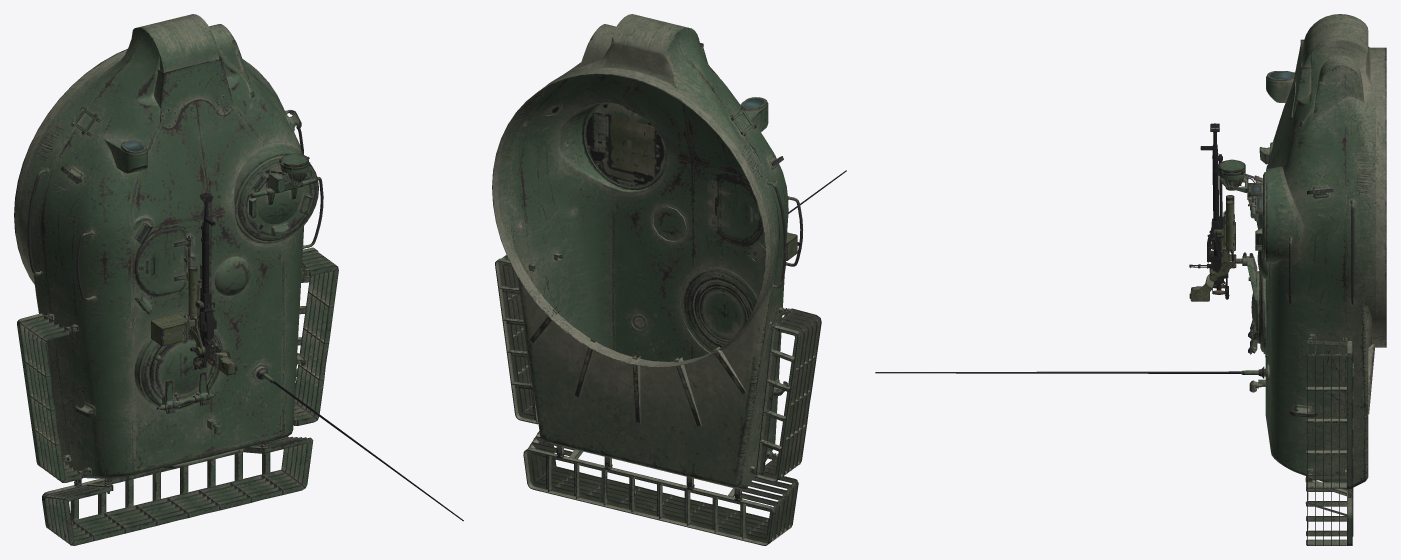
The model's file is Turret_01.glb.
The picture shows the model from 3 angles, left to right: view 1: azimuth 30°, elevation 25°; view 2: azimuth 150°, elevation 25°; view 3: azimuth 270°, elevation 25°; orthographic projection. The views are drawn at different scales.
Visible parts, largest first — view 1: set_0_group_0; view 2: set_0_group_0; view 3: set_0_group_0.
Part boxes in pixels (x1,y1,x2,y2): set_0_group_0: (14, 14, 463, 545); set_0_group_0: (492, 14, 846, 545); set_0_group_0: (875, 14, 1386, 545).
Bounding box in the file's own units: 2.84 × 4.39 × 4.37.
Materials: 1 (1 with a texture image).
